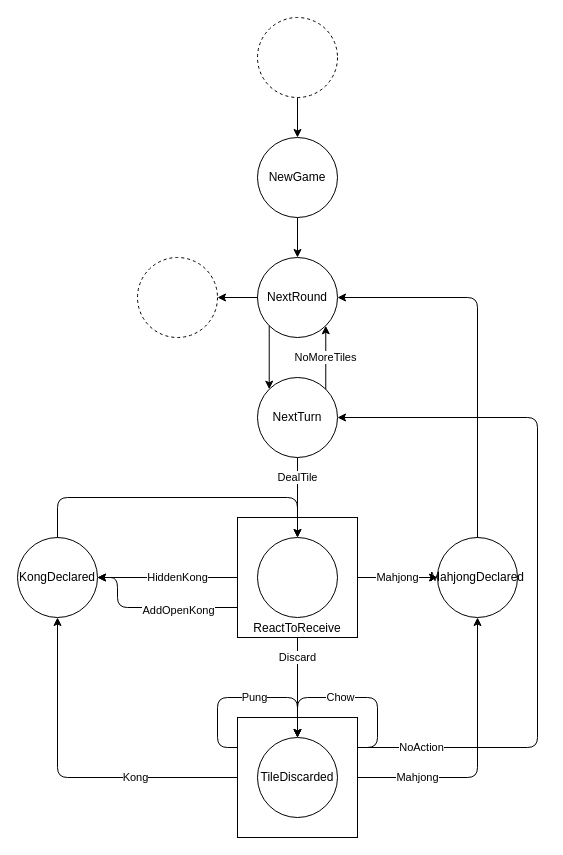
Some shapes in this 563 by 855 pixel diagram are drawn without their labels. The shapes that lost their labels are listed below. From the top down, each one's box as (x1, y1, x2, y2) in pixels, then its label:
(256, 16, 338, 98): Start
(136, 256, 218, 338): End
(256, 536, 338, 618): TileReceived
(236, 716, 358, 838): ReactToDiscard
